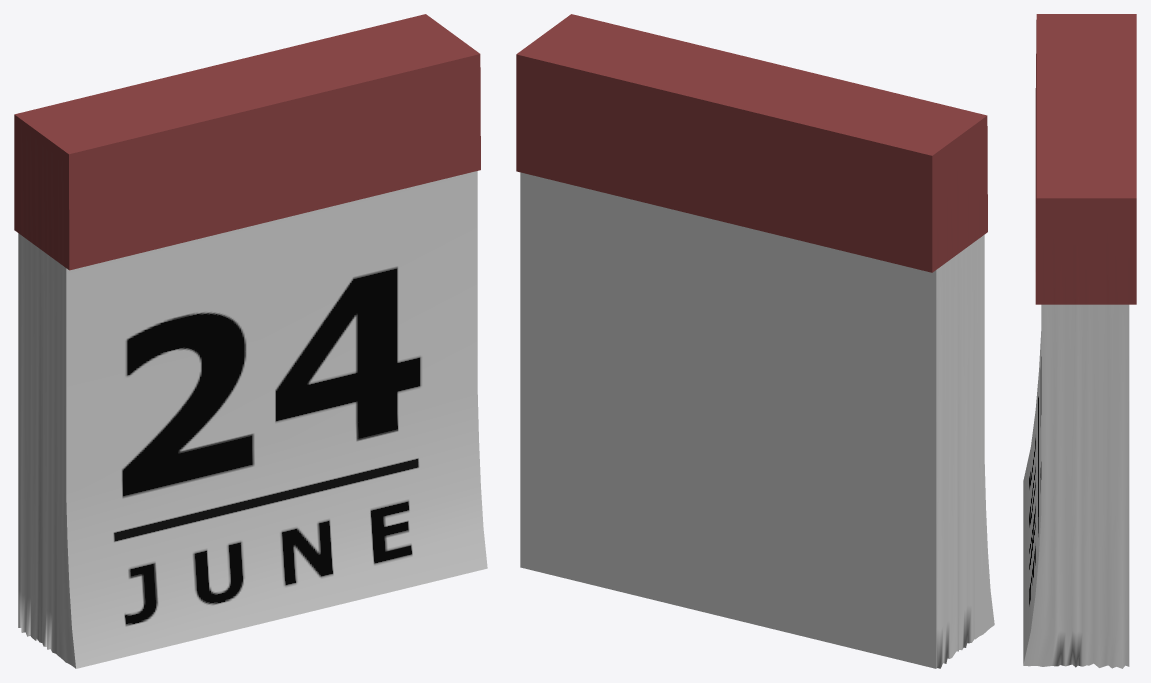
The model's file is kalender.fbx.
3 views of the same model, side by side, from view 1: azimuth 30°, elevation 25°; view 2: azimuth 150°, elevation 25°; view 3: azimuth 270°, elevation 25° (orthographic). The views are drawn at different scales.
Parts seen in each view (by area): view 1: Würfel; view 2: Würfel; view 3: Würfel.
Part boxes in pixels (x1,y1,x2,y2): Würfel: (14, 14, 487, 668); Würfel: (516, 14, 994, 668); Würfel: (1023, 14, 1136, 668).
Size of the model in its own units: 80.31 by 95.28 by 20.81.
2 materials, 1 textured.
